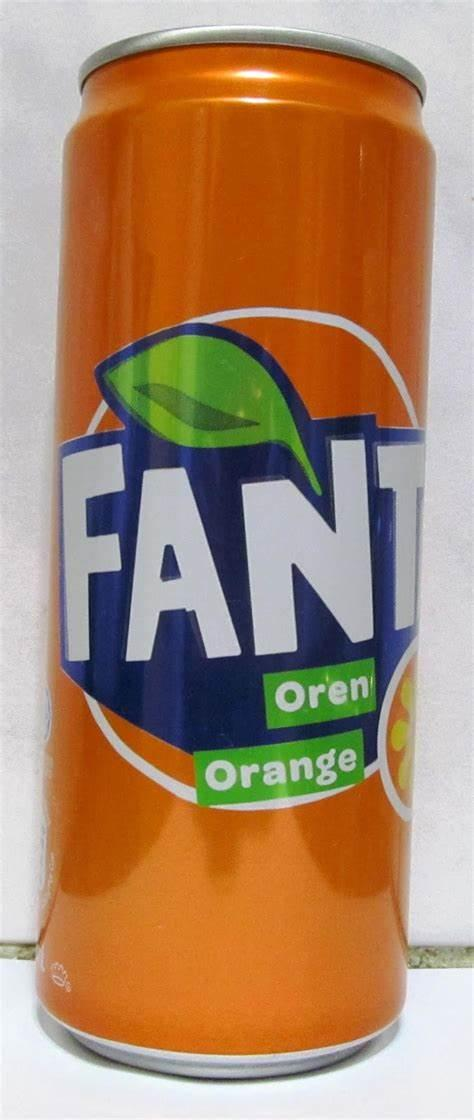metal: (35, 26, 433, 1078)
